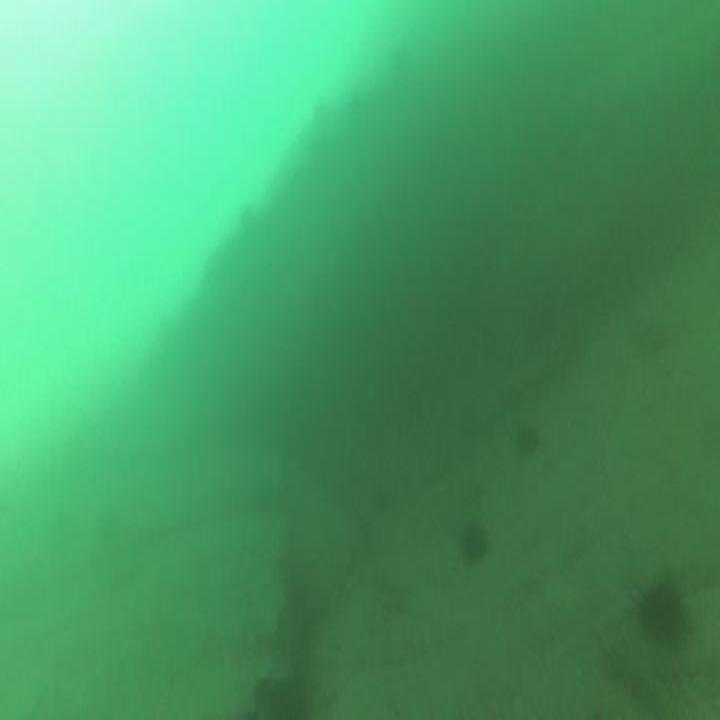echinus: (638, 578, 689, 647), (460, 517, 486, 562), (516, 423, 539, 461)
